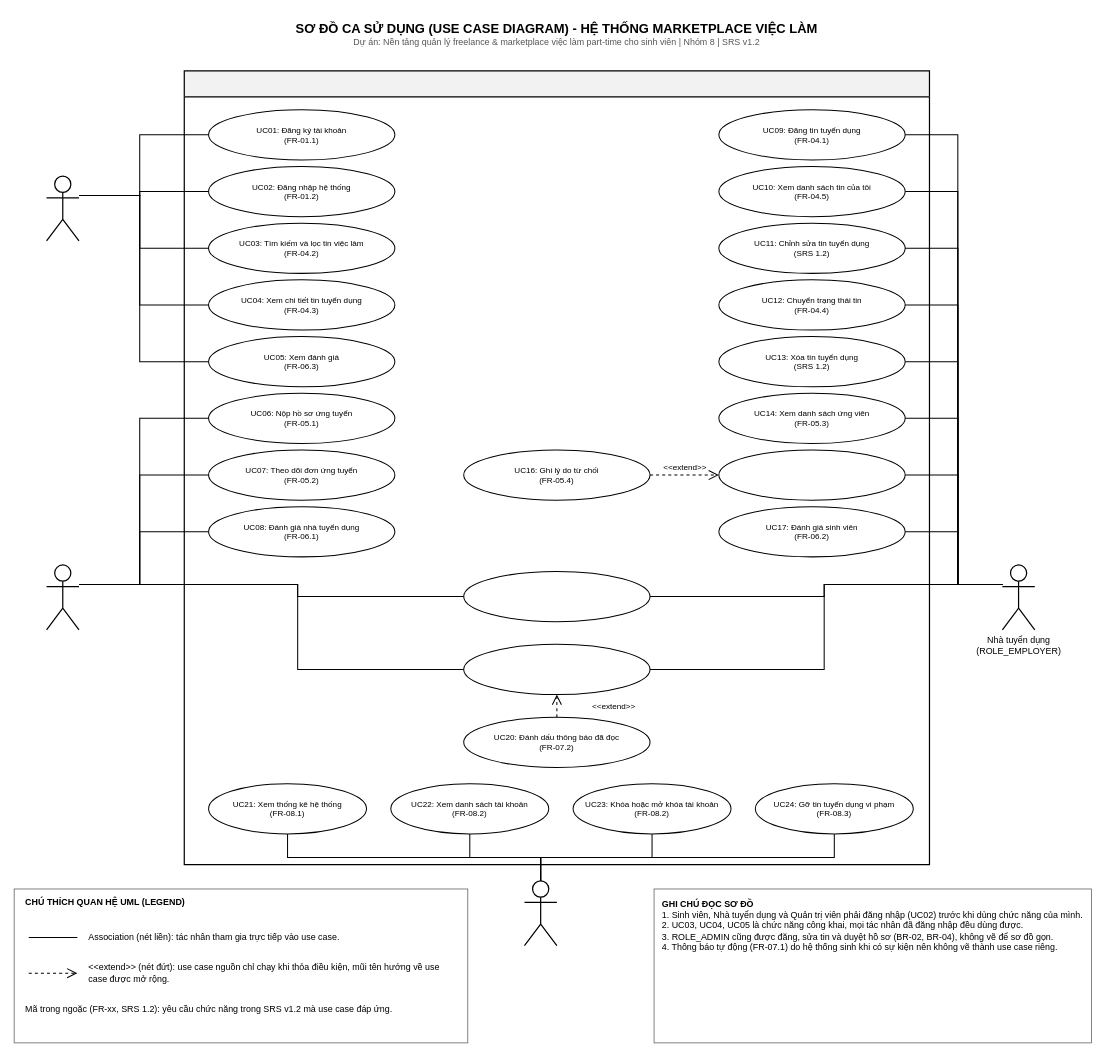
Some shapes in this 1114 by 1057 pixel diagram are drawn without their labels. The shapes that lost their labels are listed below. From the top down, each one's box as (x1, y1, x2, y2) in pixels, then its label:
(46, 175, 79, 241): Khách vãng lai (Guest)
(183, 70, 930, 865): Hệ thống Marketplace việc làm part-time cho sinh viên
(718, 449, 905, 500): UC15: Xét duyệt hồ sơ ứng viên (FR-05.4)
(46, 564, 79, 630): Sinh viên (ROLE_STUDENT)
(463, 571, 650, 622): UC18: Xem và cập nhật hồ sơ cá nhân (FR-02.1, FR-02.2)
(463, 643, 650, 695): UC19: Xem thông báo (FR-07.2)
(524, 880, 557, 946): Quản trị viên (ROLE_ADMIN)
